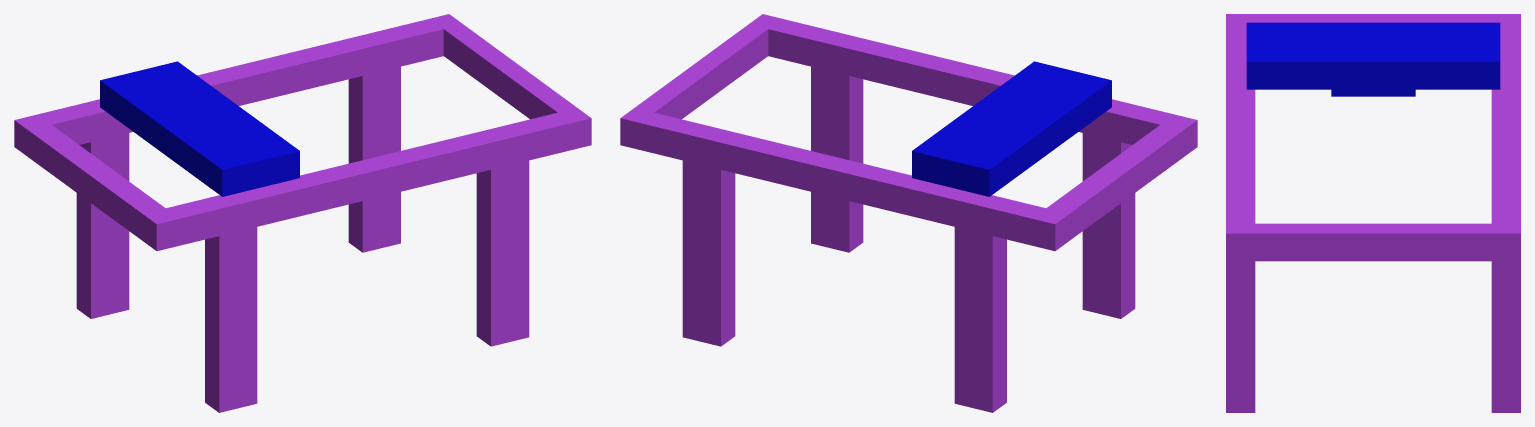
Rendered from guindaste.fbx.
3 renders of one model, left to right at view 1: azimuth 30°, elevation 25°; view 2: azimuth 150°, elevation 25°; view 3: azimuth 270°, elevation 25°, orthographic. The views are drawn at different scales.
Parts seen in each view (by area): view 1: guindas, guindas.001; view 2: guindas, guindas.001; view 3: guindas, guindas.001.
Part boxes in pixels (bbox=[...]): guindas: bbox=[14, 14, 591, 412]; guindas.001: bbox=[100, 61, 299, 196]; guindas: bbox=[620, 14, 1197, 412]; guindas.001: bbox=[912, 61, 1111, 196]; guindas: bbox=[1226, 14, 1520, 412]; guindas.001: bbox=[1246, 22, 1500, 96].
Bounding box in the file's own units: 3369 × 1721 × 1911.
